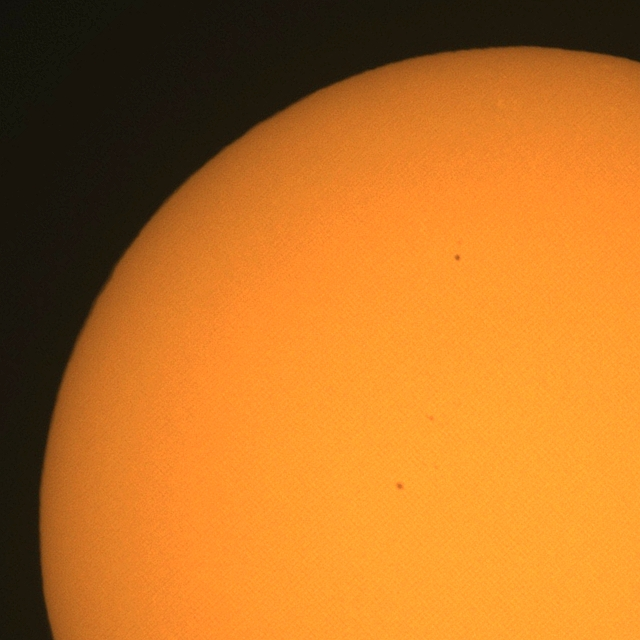sunspot: (395, 482, 404, 491), (453, 253, 462, 262)
